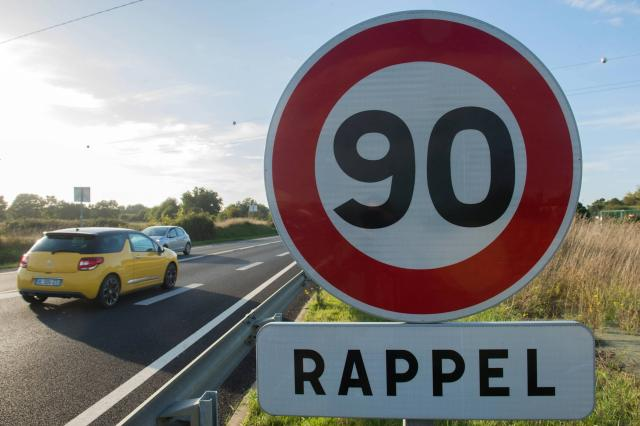Speed_limit_90km: (261, 11, 583, 322)
car: (15, 225, 182, 312)
